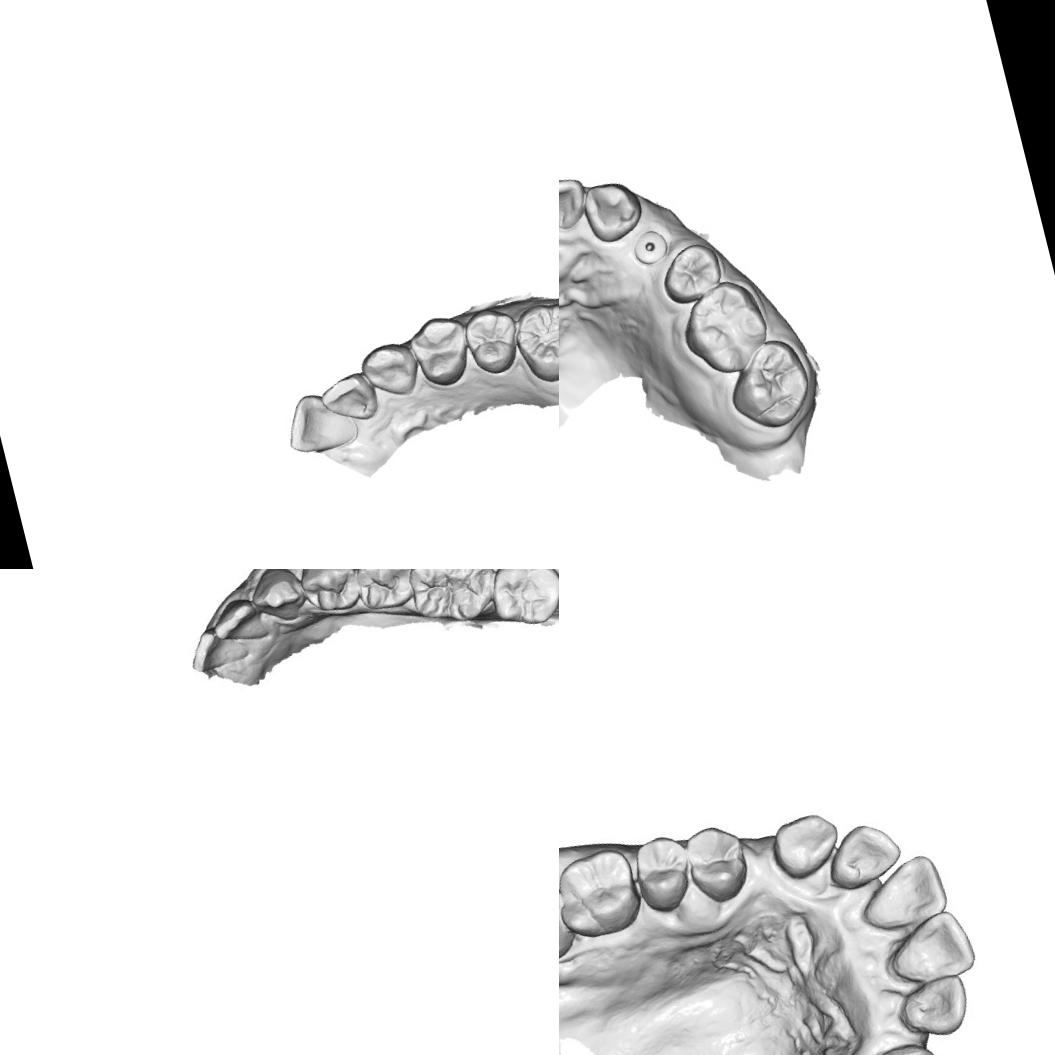canine: (762, 802, 846, 886), (576, 173, 649, 248), (354, 336, 424, 404), (247, 569, 310, 627), (869, 1036, 944, 1055)
implant: (626, 223, 672, 271)
incisor: (850, 847, 955, 935), (880, 904, 977, 994), (818, 813, 910, 895), (888, 969, 980, 1046), (278, 384, 361, 461), (315, 368, 382, 429), (182, 618, 252, 675), (207, 591, 272, 650), (559, 171, 595, 237)
molar: (671, 272, 780, 384), (720, 331, 822, 437), (559, 842, 648, 945), (396, 569, 501, 633), (506, 293, 559, 390), (480, 569, 559, 634)
premolar: (674, 817, 756, 909), (624, 828, 701, 918), (404, 309, 477, 393), (458, 300, 528, 380), (653, 238, 727, 310), (295, 569, 364, 622), (347, 569, 418, 615)
